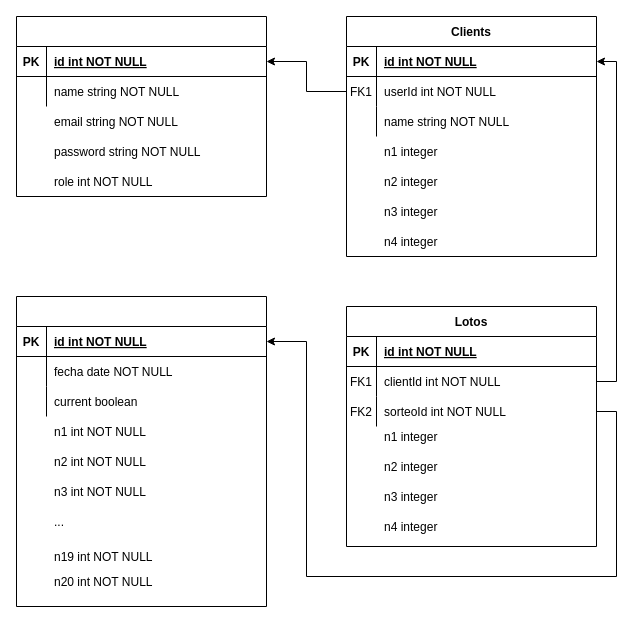
The diagram is 633 pixels wide and 623 high, and some of its shapes have lost their labels. Here are the shapes that lost their labels. From the top down, the box of each, then its label:
(16, 16, 266, 196): Users
(16, 296, 266, 606): Sorteos
